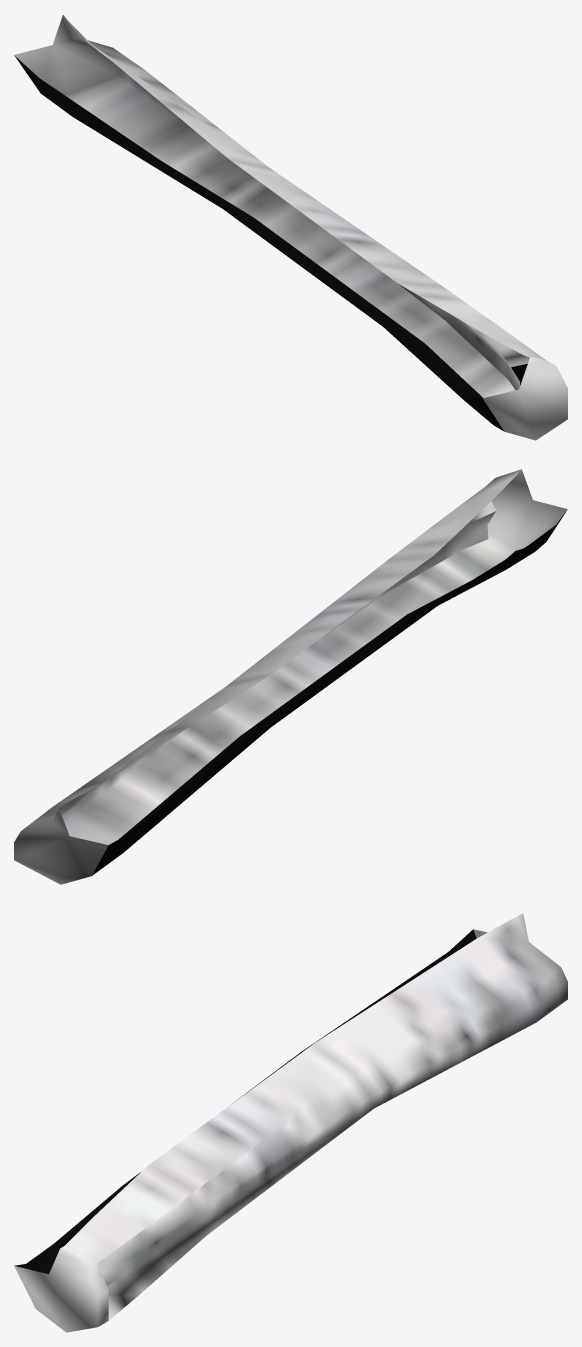
3 renders of one model, top to bottom at view 1: azimuth 30°, elevation 25°; view 2: azimuth 150°, elevation 25°; view 3: azimuth 330°, elevation 25°, orthographic. The views are drawn at different scales.
Visible parts, largest first — view 1: wg_r_a_u; view 2: wg_r_a_u; view 3: wg_r_a_u.
Part boxes in pixels (x1=…): wg_r_a_u: x1=14, y1=15, x2=567, y2=440; wg_r_a_u: x1=14, y1=469, x2=567, y2=884; wg_r_a_u: x1=14, y1=913, x2=567, y2=1332.
Size of the model in its own units: 0.2625 by 0.2136 by 2.11.
Materials: 3 (2 with a texture image).
